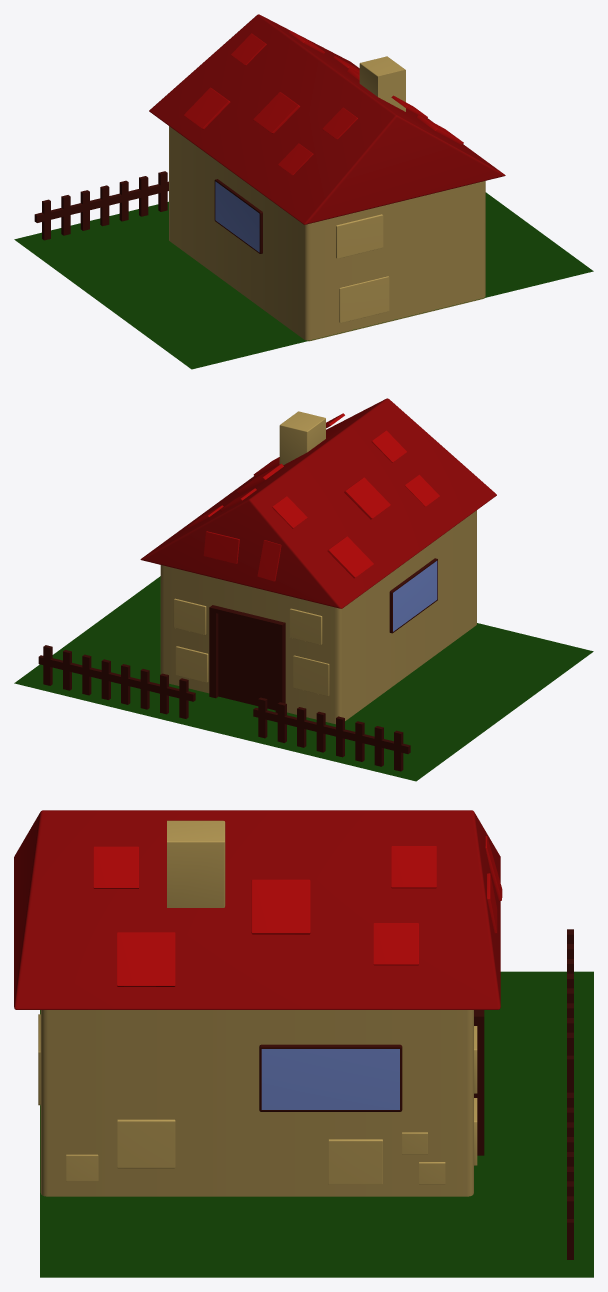
The model's file is house2.FBX.
The picture shows the model from 3 angles, top to bottom: view 1: azimuth 30°, elevation 25°; view 2: azimuth 150°, elevation 25°; view 3: azimuth 270°, elevation 25°; orthographic projection. The views are drawn at different scales.
Visible parts, largest first — view 1: Box247; view 2: Box247; view 3: Box247.
Part boxes in pixels (x1,y1,x2,y2): Box247: (14, 14, 593, 369); Box247: (14, 398, 593, 781); Box247: (14, 810, 593, 1277).
Bounding box in the file's own units: 2091 × 1060 × 1675.
